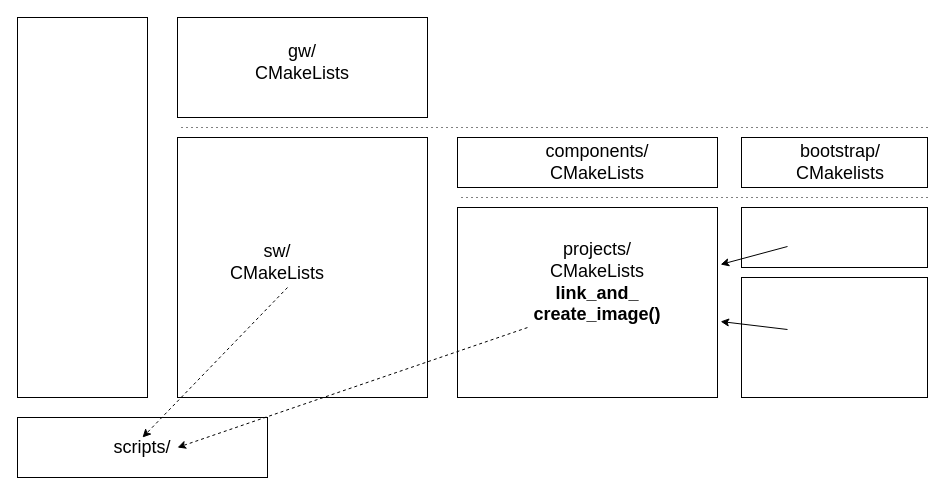
This 946x495 diagram has some shape labels left out. The centre of each missing label's shape, as x and y in pixels:
<root_dir>/ CMakeLists: point 82,207
dfx_test/ CMakeLists: point 834,337
hello_world/ CMakeLists: point 834,237
